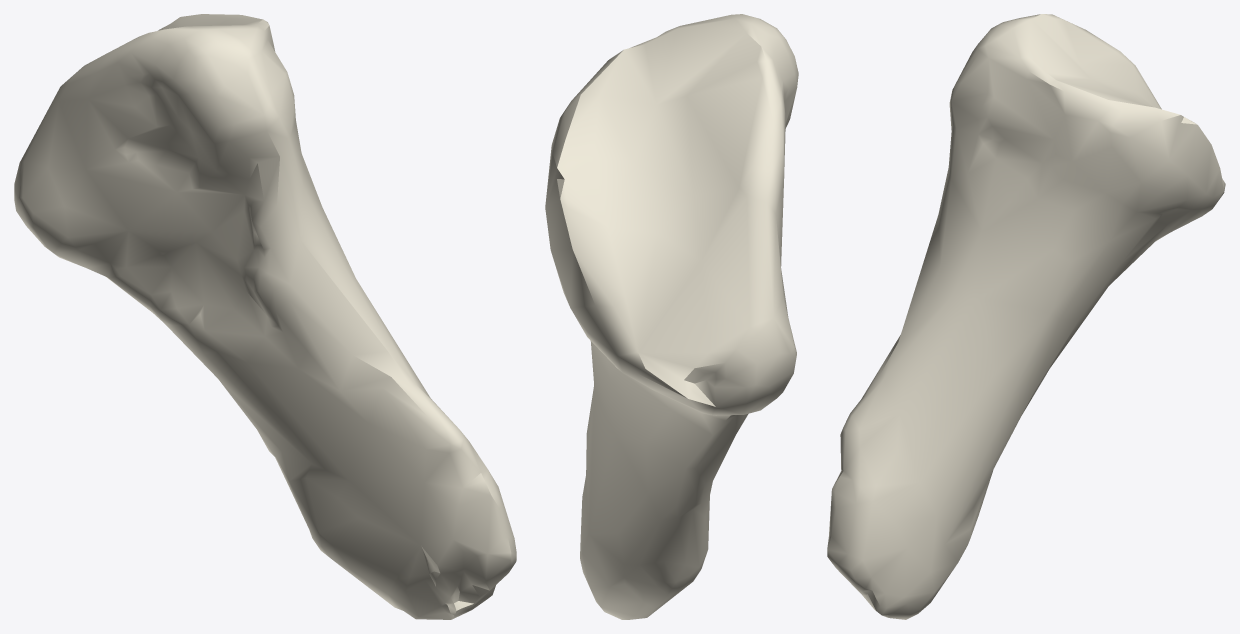
Rendered from fma23951.glb.
3 views of the same model, side by side, from view 1: azimuth 30°, elevation 25°; view 2: azimuth 150°, elevation 25°; view 3: azimuth 270°, elevation 25° (orthographic). The views are drawn at different scales.
Visible parts, largest first — view 1: FMA23951; view 2: FMA23951; view 3: FMA23951.
Boxes of the visible parts, <box> form: FMA23951: <box>14,14,516,619</box>; FMA23951: <box>545,14,798,619</box>; FMA23951: <box>827,14,1225,619</box>.
Bounding box in the file's own units: 0.0138 × 0.0232 × 0.0161.
